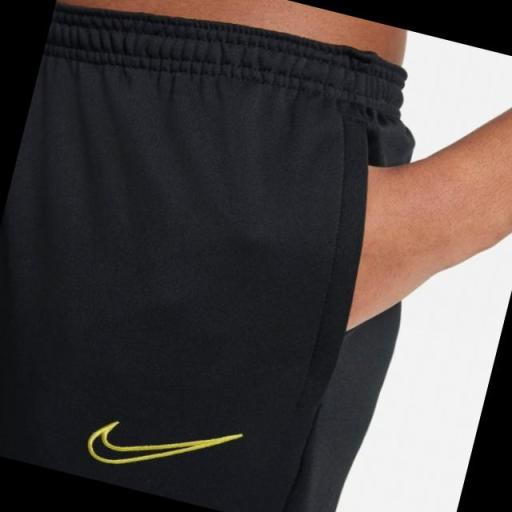Nike: (73, 385, 256, 496)
